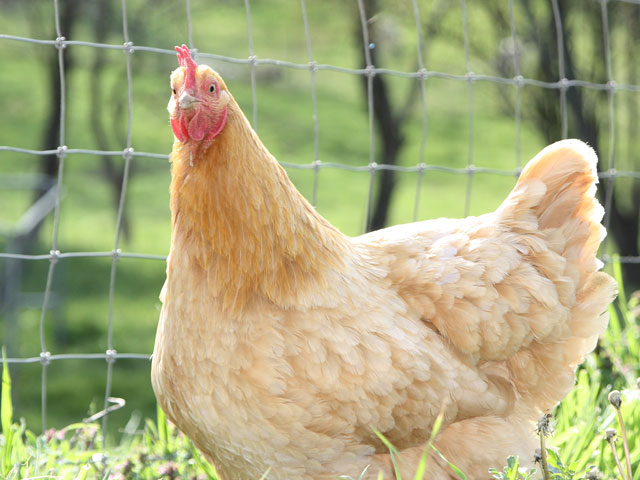buff: (161, 40, 620, 464)
